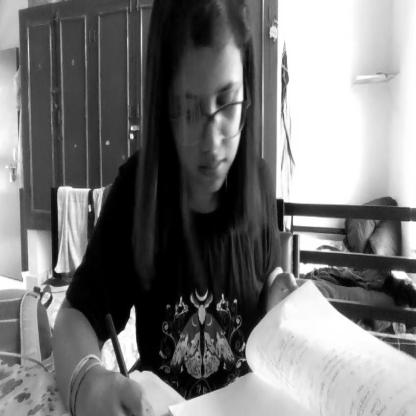Normal: (157, 0, 251, 203)
